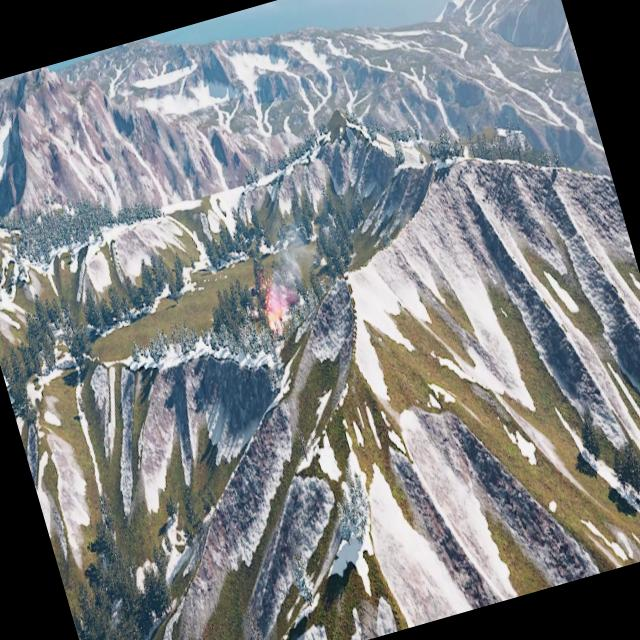fire: (264, 298, 286, 332)
smoke: (254, 230, 320, 310)
